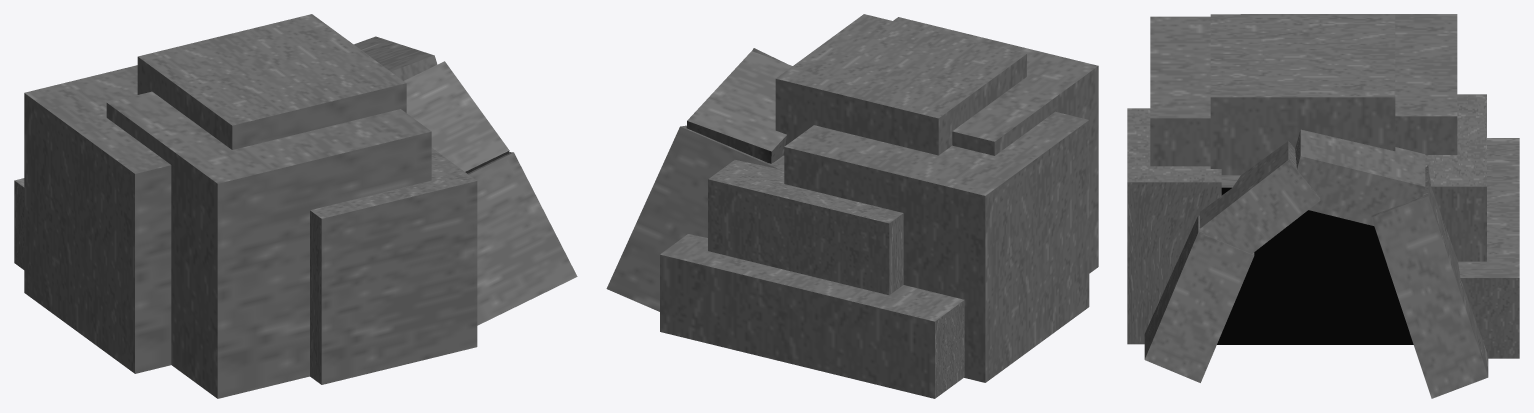
Rendered from Cave.fbx.
3 renders of one model, left to right at view 1: azimuth 30°, elevation 25°; view 2: azimuth 150°, elevation 25°; view 3: azimuth 270°, elevation 25°, orthographic. The views are drawn at different scales.
Parts seen in each view (by area): view 1: Cube.005; view 2: Cube.005; view 3: Cube.005.
Part boxes in pixels (x1,y1,x2,y2): Cube.005: (14, 14, 577, 398); Cube.005: (606, 14, 1098, 398); Cube.005: (1127, 14, 1519, 398).
Bounding box in the file's own units: 256 × 161 × 223.
